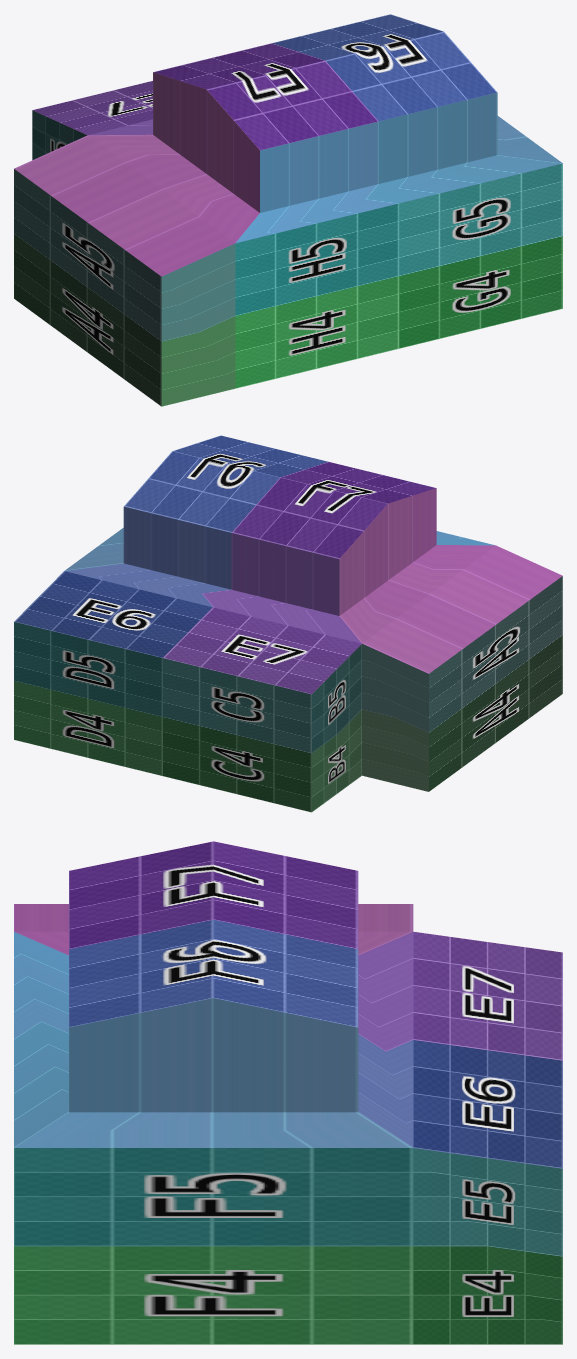
Rendered from house_c.gltf.
3 renders of one model, top to bottom at view 1: azimuth 30°, elevation 25°; view 2: azimuth 150°, elevation 25°; view 3: azimuth 270°, elevation 25°, orthographic. The views are drawn at different scales.
Parts seen in each view (by area): view 1: NeighborHouseB-col; view 2: NeighborHouseB-col; view 3: NeighborHouseB-col.
Part boxes in pixels (<box>): NeighborHouseB-col: <box>14,14,562,406</box>; NeighborHouseB-col: <box>14,435,562,812</box>; NeighborHouseB-col: <box>14,841,562,1344</box>.
Bounding box in the file's own units: 37.68 × 21.01 × 33.01.
1 material, 1 textured.
